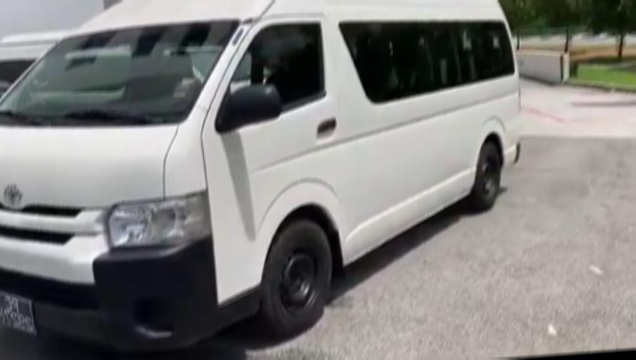van: (0, 0, 556, 360)
